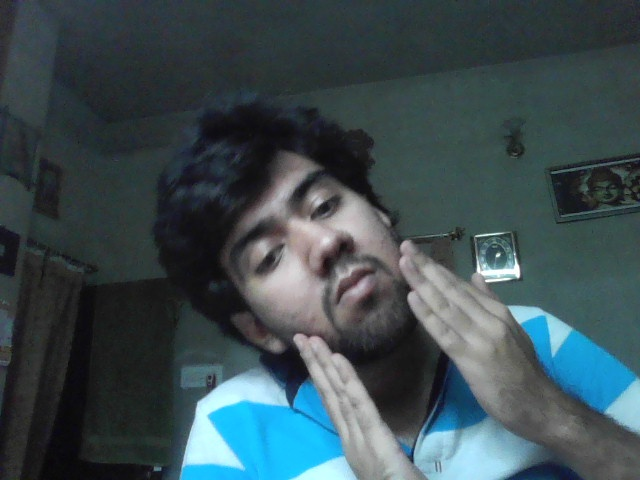ThankYou: (293, 239, 557, 480)
